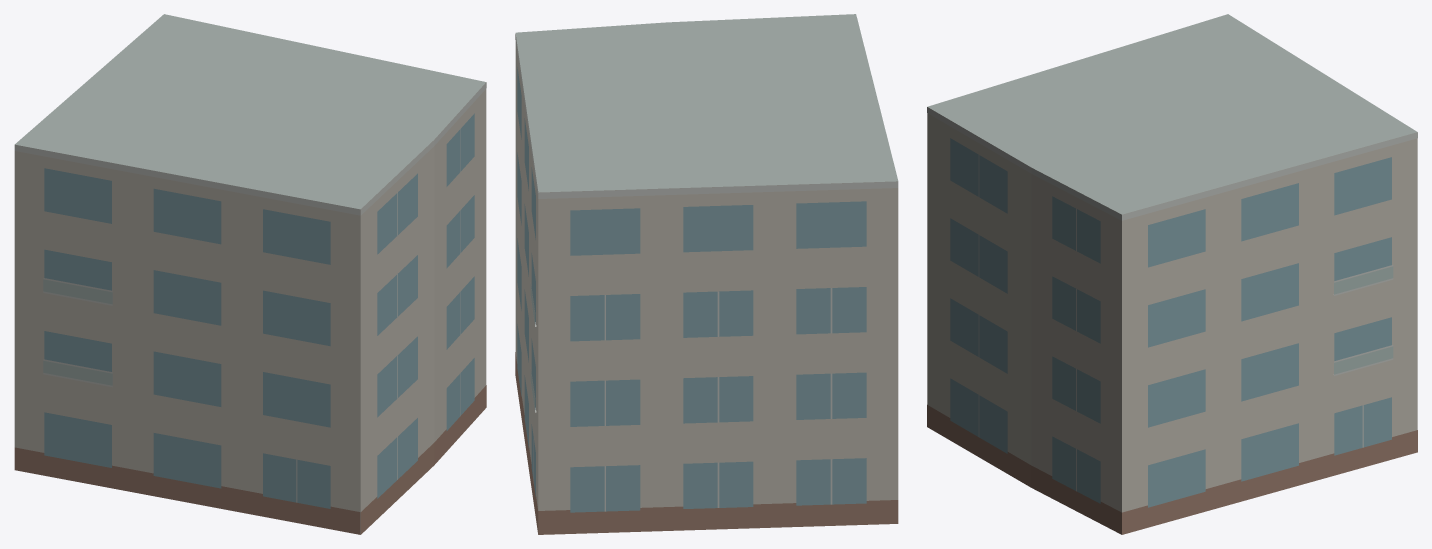
The model's file is survey-upis-32851488.glb.
3 views of the same model, side by side, from view 1: azimuth 30°, elevation 25°; view 2: azimuth 150°, elevation 25°; view 3: azimuth 270°, elevation 25° (orthographic). The views are drawn at different scales.
Parts seen in each view (by area): view 1: survey-upis-32851488.tmp; view 2: survey-upis-32851488.tmp; view 3: survey-upis-32851488.tmp.
Part boxes in pixels (x1=…): survey-upis-32851488.tmp: x1=14, y1=14, x2=486, y2=534; survey-upis-32851488.tmp: x1=515, y1=14, x2=898, y2=534; survey-upis-32851488.tmp: x1=927, y1=14, x2=1417, y2=534.
Bounding box in the file's own units: 17.01 × 12.65 × 17.57.
